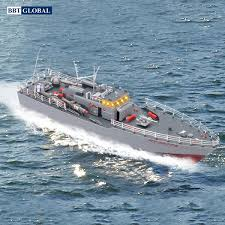tau_muctieu: (19, 63, 216, 167)
